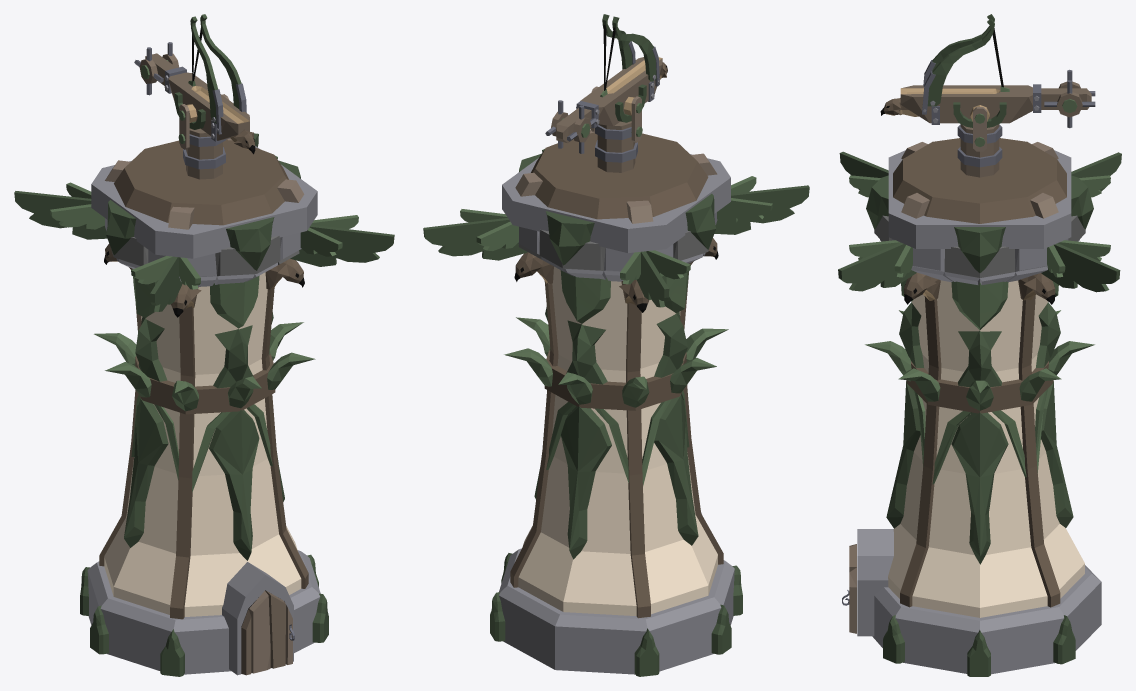
The model's file is _Ballista_tower_LVL_4.fbx.
3 renders of one model, left to right at view 1: azimuth 30°, elevation 25°; view 2: azimuth 150°, elevation 25°; view 3: azimuth 270°, elevation 25°, orthographic.
Parts seen in each view (by area): view 1: Ballista_tower_LVL_4; view 2: Ballista_tower_LVL_4; view 3: Ballista_tower_LVL_4.
Part boxes in pixels (x1,y1,x2,y2): Ballista_tower_LVL_4: [14, 14, 394, 676]; Ballista_tower_LVL_4: [423, 14, 809, 676]; Ballista_tower_LVL_4: [838, 14, 1121, 676].
Size of the model in its own units: 662 by 1564 by 662.
